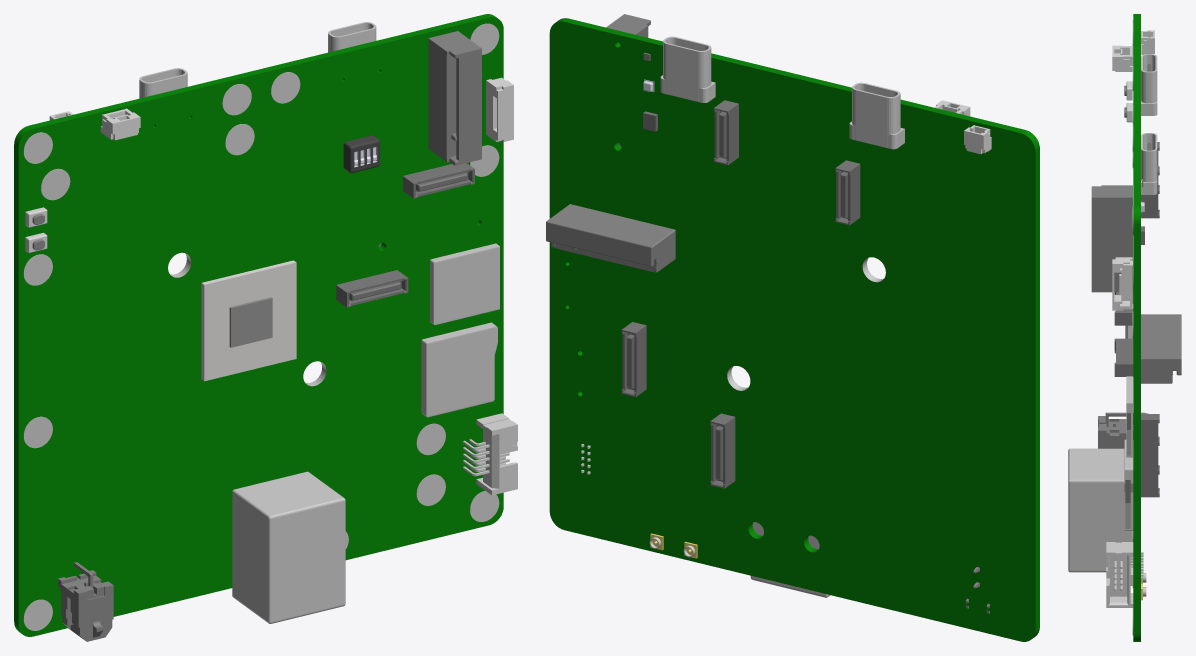
The model's file is 0b7cdc0c-navq95v2.glb.
3 views of the same model, side by side, from view 1: azimuth 30°, elevation 25°; view 2: azimuth 150°, elevation 25°; view 3: azimuth 270°, elevation 25° (orthographic). The views are drawn at different scales.
Parts seen in each view (by area): view 1: pcb, rj45, mimx9596avzxnmc, key_m_m2, sdcard, nanosim, b2b_io, debug, power, console, boot_switches, usbc0 (+2 smaller); view 2: pcb, key_b_m2, b2b_eth, usbc1, usbc0, b2b_csi, b2b_dsicsi, bat; view 3: rj45, pcb, key_m_m2, key_b_m2, debug, b2b_eth, b2b_io, usbc1, usbc0, console, power, sdcard (+4 smaller).
Part boxes in pixels (x1,y1,x2,y2): pcb: (14,14,503,636); rj45: (232,471,345,623); mimx9596avzxnmc: (201,260,296,381); key_m_m2: (428,31,481,165); sdcard: (421,322,497,417); nanosim: (430,243,499,325); b2b_io: (336,163,474,307); debug: (463,413,517,495); power: (58,562,113,641); console: (486,77,513,141); boot_switches: (343,135,379,173); usbc0: (328,22,376,52); pcb: (549,18,1039,641); key_b_m2: (546,204,675,272); b2b_eth: (621,322,735,488); usbc1: (849,82,904,149); usbc0: (660,36,715,102); b2b_csi: (713,100,738,165); b2b_dsicsi: (835,160,860,225); bat: (964,125,991,154); rj45: (1068,448,1132,572); pcb: (1132,14,1140,641); key_m_m2: (1091,185,1132,292); key_b_m2: (1141,314,1181,383); debug: (1106,542,1143,607); b2b_eth: (1141,414,1159,497); b2b_io: (1114,287,1133,376); usbc1: (1141,54,1157,115); usbc0: (1141,133,1157,194); console: (1112,257,1133,310); power: (1098,412,1148,448); sdcard: (1124,439,1133,530).
Bounding box in the file's own units: 0.1 × 0.1042 × 0.0236.
